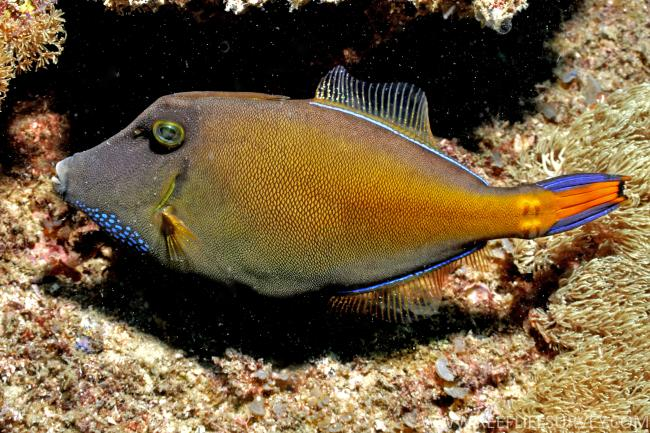fish: (53, 66, 632, 300)
